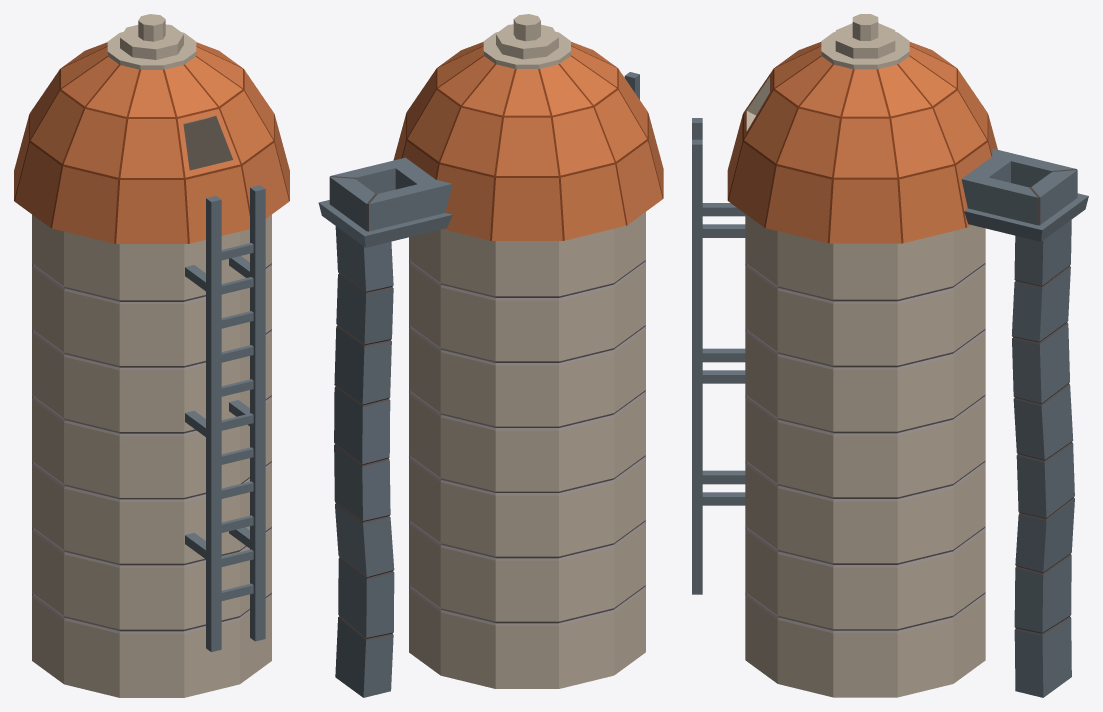
Rendered from Comida3.fbx.
3 renders of one model, left to right at view 1: azimuth 30°, elevation 25°; view 2: azimuth 150°, elevation 25°; view 3: azimuth 270°, elevation 25°, orthographic.
Visible parts, largest first — view 1: Silo_2.001; view 2: Silo_2.001; view 3: Silo_2.001.
Part boxes in pixels (left/top/right/bottom): Silo_2.001: left=14, top=14, right=289, bottom=697; Silo_2.001: left=318, top=14, right=663, bottom=697; Silo_2.001: left=692, top=14, right=1088, bottom=697.
Bounding box in the file's own units: 122 × 303 × 173.
